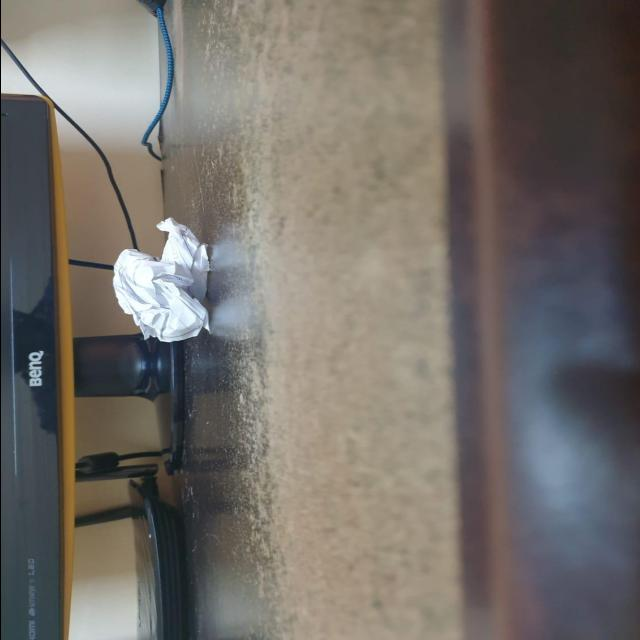kertas: (104, 218, 226, 336)
